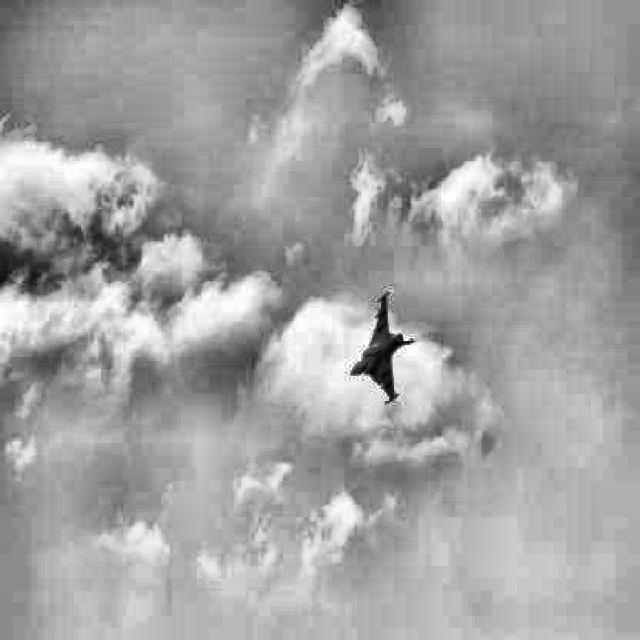JAS39: (348, 291, 417, 404)
